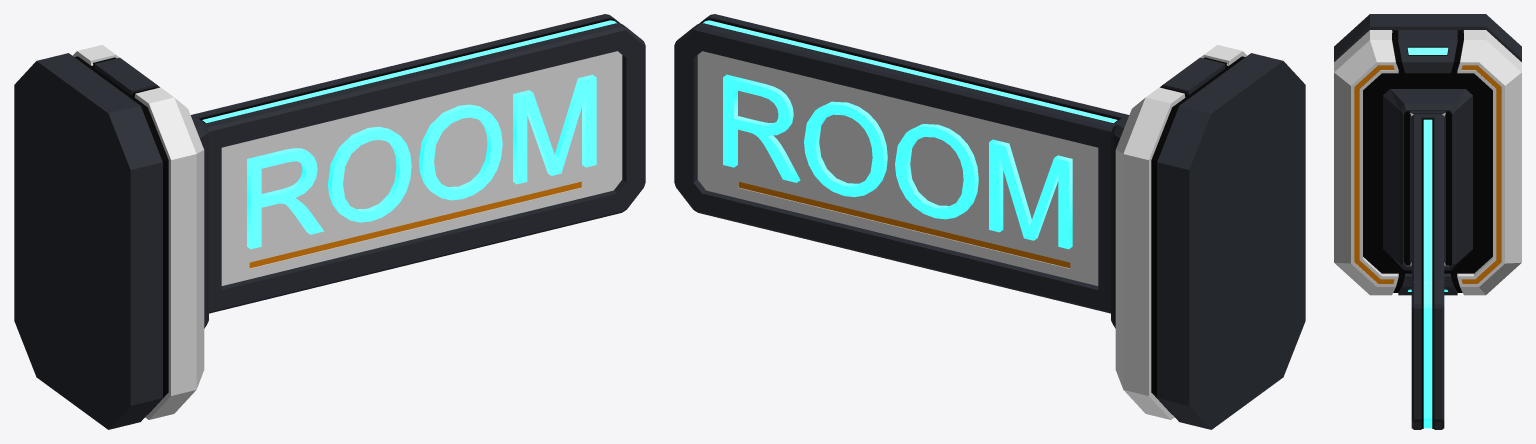
The model's file is door_plaque.glb.
3 views of the same model, side by side, from view 1: azimuth 30°, elevation 25°; view 2: azimuth 150°, elevation 25°; view 3: azimuth 270°, elevation 25° (orthographic). The views are drawn at different scales.
Parts seen in each view (by area): view 1: SM_DoorSign_Room; view 2: SM_DoorSign_Room; view 3: SM_DoorSign_Room.
Part boxes in pixels (x1=…): SM_DoorSign_Room: x1=14, y1=14, x2=645, y2=429; SM_DoorSign_Room: x1=674, y1=14, x2=1305, y2=429; SM_DoorSign_Room: x1=1334, y1=14, x2=1521, y2=429.
Bounding box in the file's own units: 0.3361 × 0.18 × 0.12.
